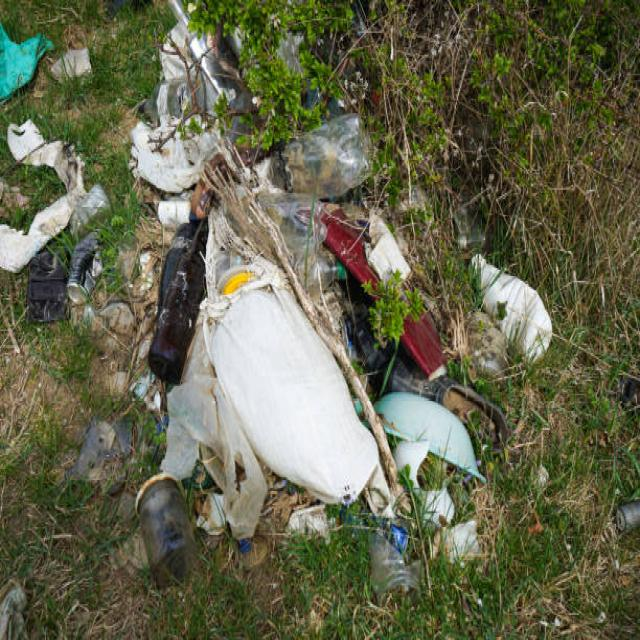plastic: (147, 205, 532, 518)
